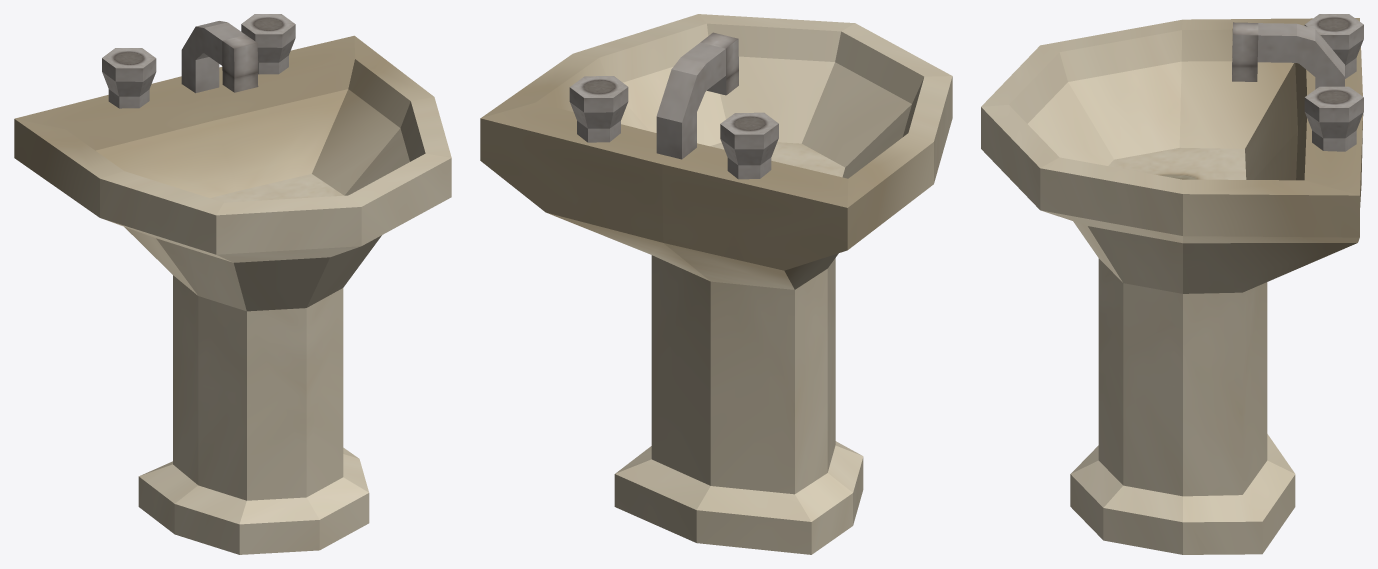
The model's file is BathroomSink.fbx.
3 renders of one model, left to right at view 1: azimuth 30°, elevation 25°; view 2: azimuth 150°, elevation 25°; view 3: azimuth 270°, elevation 25°, orthographic. The views are drawn at different scales.
Visible parts, largest first — view 1: BathroomSink, SinkTap, SinkLeftKnob, SinkRightKnob; view 2: BathroomSink, SinkTap, SinkRightKnob, SinkLeftKnob; view 3: BathroomSink, SinkTap, SinkRightKnob, SinkLeftKnob.
Boxes of the visible parts, x1=… form: BathroomSink: x1=14, y1=35, x2=451, y2=554; SinkTap: x1=181, y1=21, x2=258, y2=93; SinkLeftKnob: x1=102, y1=48, x2=156, y2=108; SinkRightKnob: x1=241, y1=14, x2=295, y2=74; BathroomSink: x1=480, y1=14, x2=952, y2=554; SinkTap: x1=656, y1=32, x2=738, y2=159; SinkRightKnob: x1=569, y1=76, x2=628, y2=142; SinkLeftKnob: x1=720, y1=112, x2=778, y2=179; BathroomSink: x1=981, y1=18, x2=1363, y2=554; SinkTap: x1=1232, y1=22, x2=1344, y2=89; SinkRightKnob: x1=1304, y1=86, x2=1363, y2=151; SinkLeftKnob: x1=1304, y1=14, x2=1363, y2=78.
Size of the model in its own units: 180 by 164 by 227.
